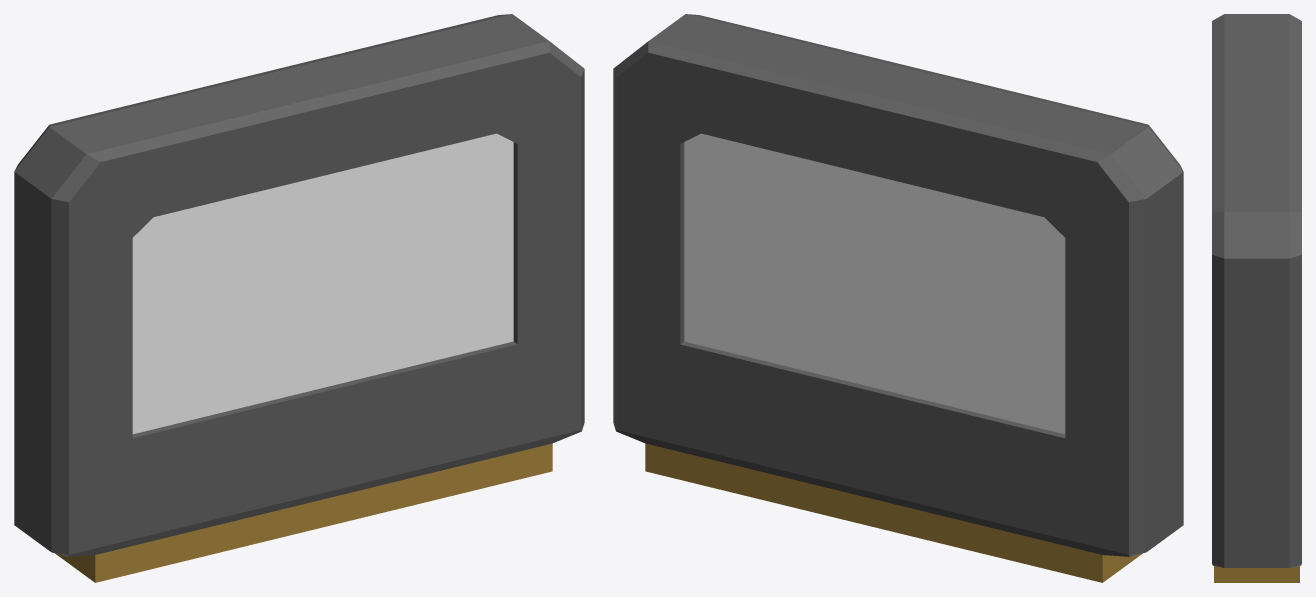
File: cart_1.glb
3 views of the same model, side by side, from view 1: azimuth 30°, elevation 25°; view 2: azimuth 150°, elevation 25°; view 3: azimuth 270°, elevation 25° (orthographic). The views are drawn at different scales.
Visible parts, largest first — view 1: card_loc; view 2: card_loc; view 3: card_loc.
Boxes of the visible parts, x1,y1,x2,y2 form: card_loc: [14, 14, 584, 582]; card_loc: [613, 14, 1183, 582]; card_loc: [1212, 14, 1301, 582].
Bounding box in the file's own units: 0.0723 × 0.0551 × 0.012.
